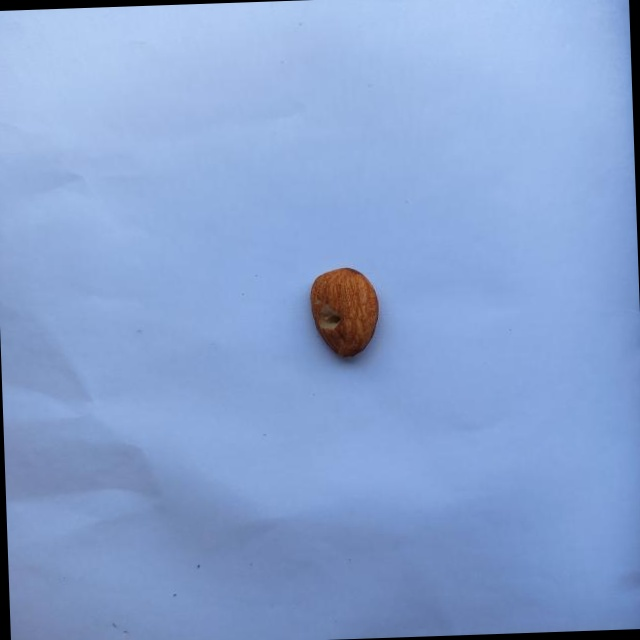grade3: (304, 263, 382, 364)
